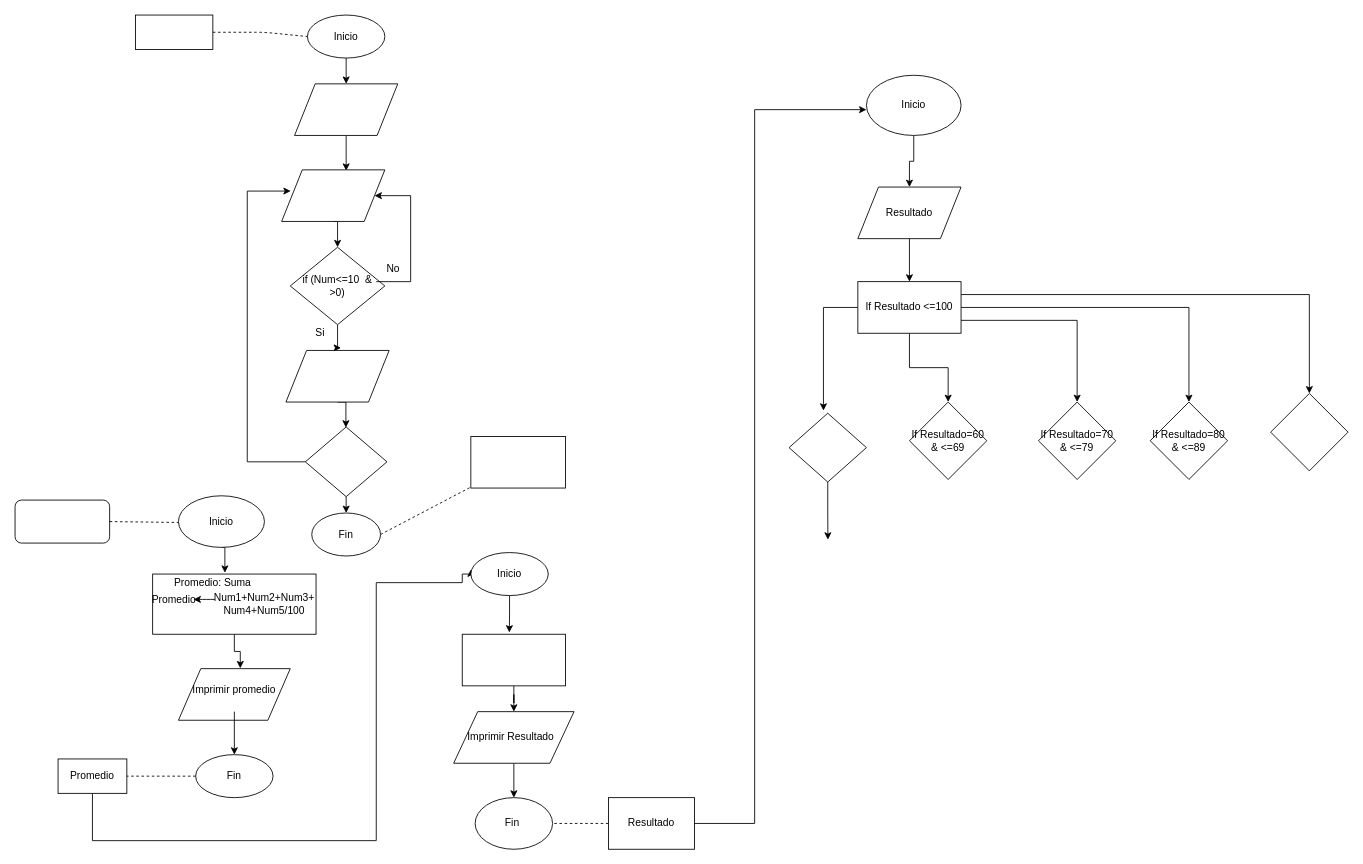
The diagram is 1363 pixels wide and 864 high, and some of its shapes have lost their labels. Each missing label, with the centre of its shape:
Cont=Cont+1: point 337,376
If Contador<=5: point 345,461
If Resultado <=59: point 827,447
Leer Num: point 333,195
Num, Cont=1: point 346,109
Num1,Num2, Num3,NUm4,Num5: point 517,462
Promedio: (Num1, Num2, Num3, Num 4, Num 5)/100: point 62,521
Resultado= Promedio*100: point 513,659
Validar Num: point 174,31
